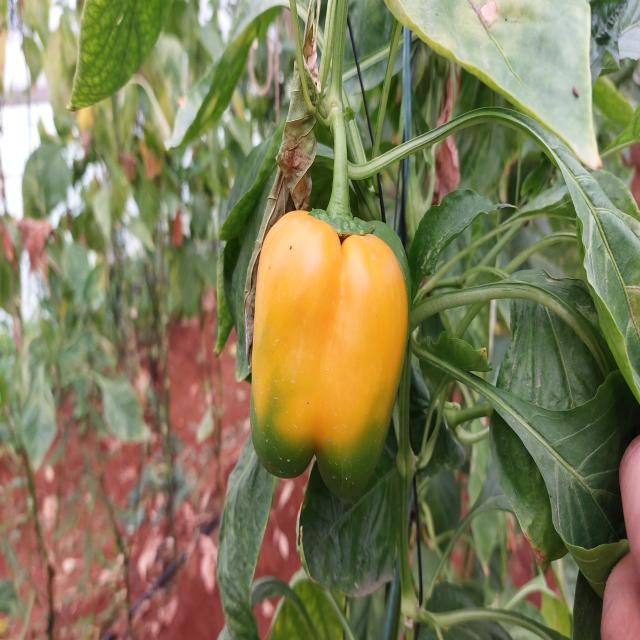Yellow-Ready-to-Harvest: (250, 203, 409, 454)
